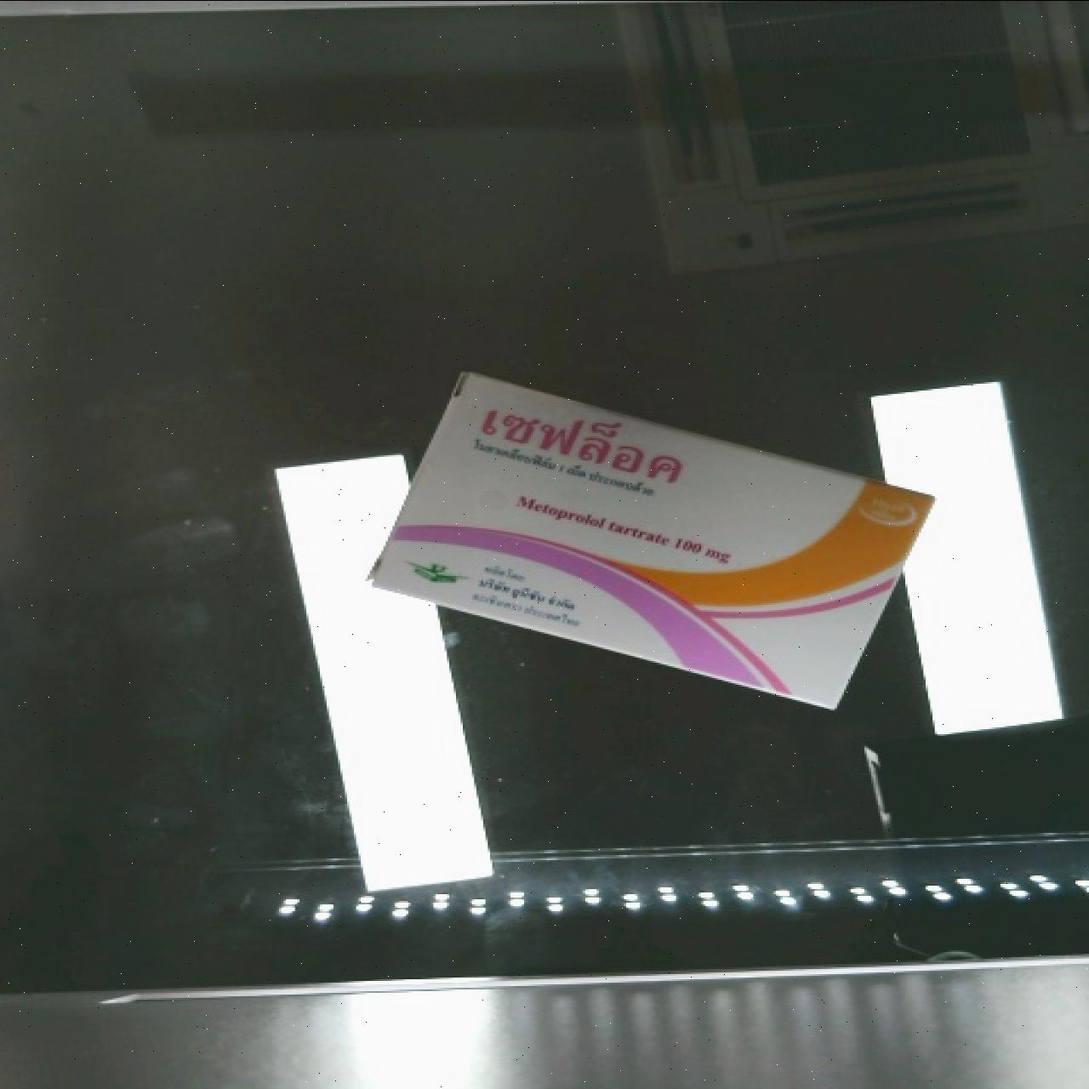medicine_label_obb: (439, 372, 712, 503)
